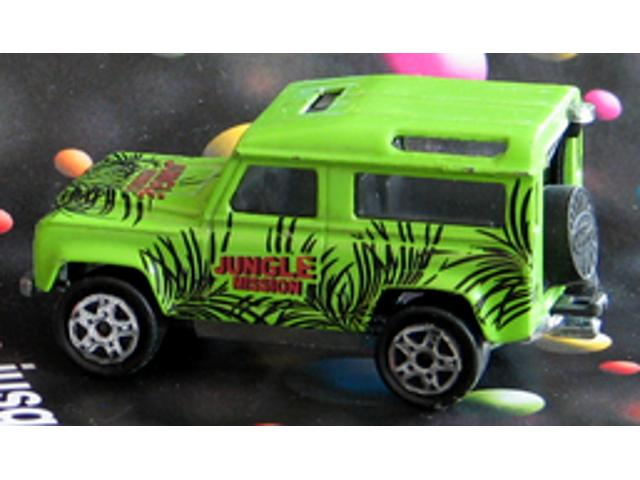toy-car: (16, 71, 612, 414)
